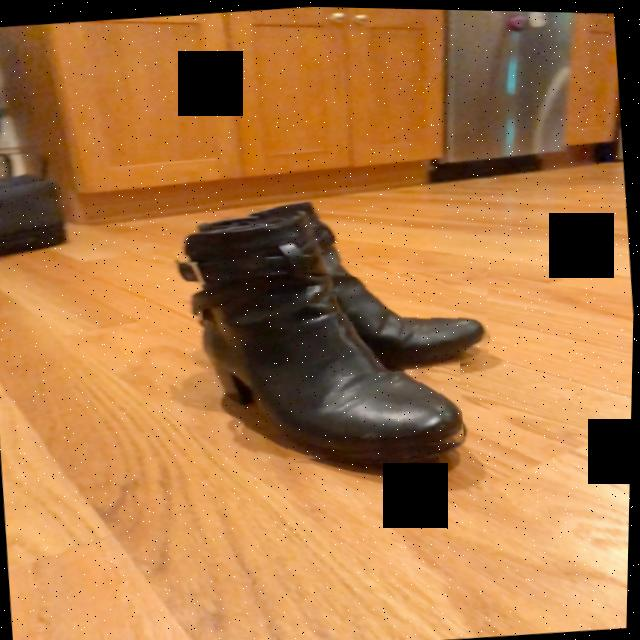shoe: (235, 290, 465, 448), (337, 275, 490, 369)
